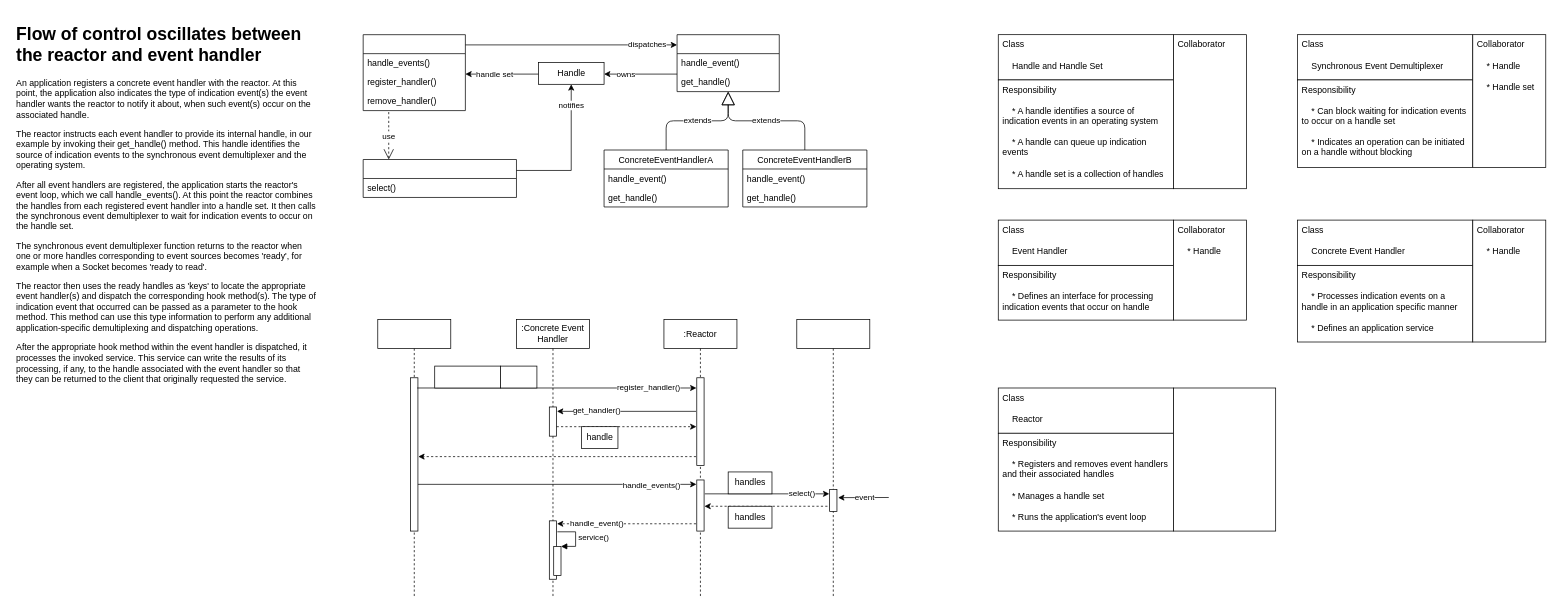
Some shapes in this 1559 by 610 pixel diagram are drawn without their labels. Each missing label, with the box of its shape:
:Main Program: (377, 319, 451, 597)
:Synchronous Event Demultiplexer: (796, 319, 870, 597)
Collaborator * Handle Set * Event Handlers * Synchronous Event Demultiplexer: (1173, 387, 1276, 531)
Concrete Event Handler: (434, 365, 500, 388)
EventHandler: (676, 34, 779, 92)
Events: (500, 365, 537, 388)
Reactor: (362, 34, 465, 111)
SynchronousEventDemultiplexer: (362, 159, 516, 197)
